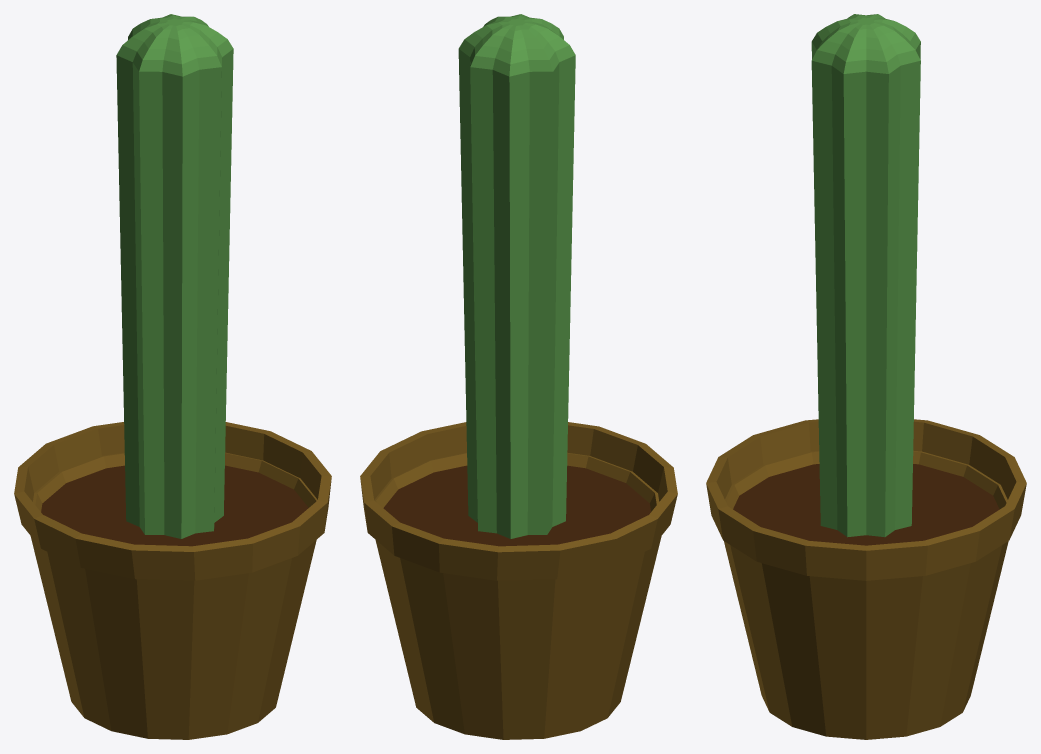
File: cactus.glb
3 views of the same model, side by side, from view 1: azimuth 30°, elevation 25°; view 2: azimuth 150°, elevation 25°; view 3: azimuth 270°, elevation 25° (orthographic).
Visible parts, largest first — view 1: pot, cactus; view 2: pot, cactus; view 3: pot, cactus.
Part boxes in pixels (bbox=[...]): pot: bbox=[14, 422, 331, 739]; cactus: bbox=[116, 14, 233, 538]; pot: bbox=[360, 422, 677, 739]; cactus: bbox=[458, 14, 575, 538]; pot: bbox=[706, 419, 1026, 739]; cactus: bbox=[811, 14, 920, 537].
Bounding box in the file's own units: 6.52 × 15.11 × 6.52.
